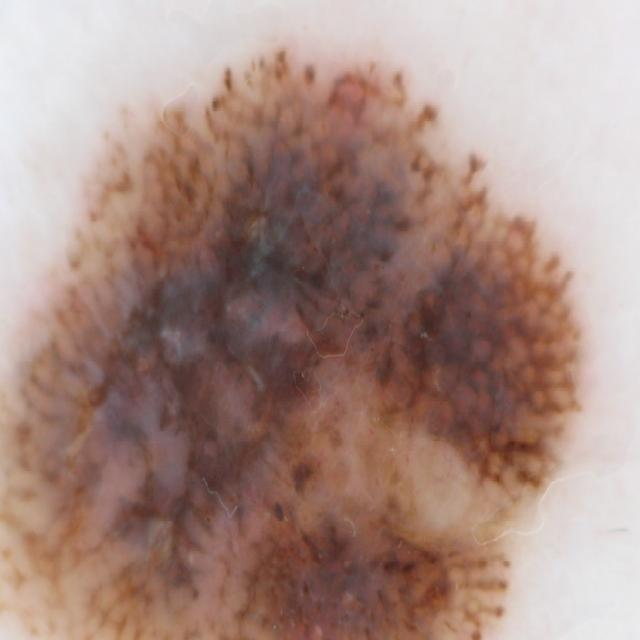Melanoma: (0, 50, 640, 640)
